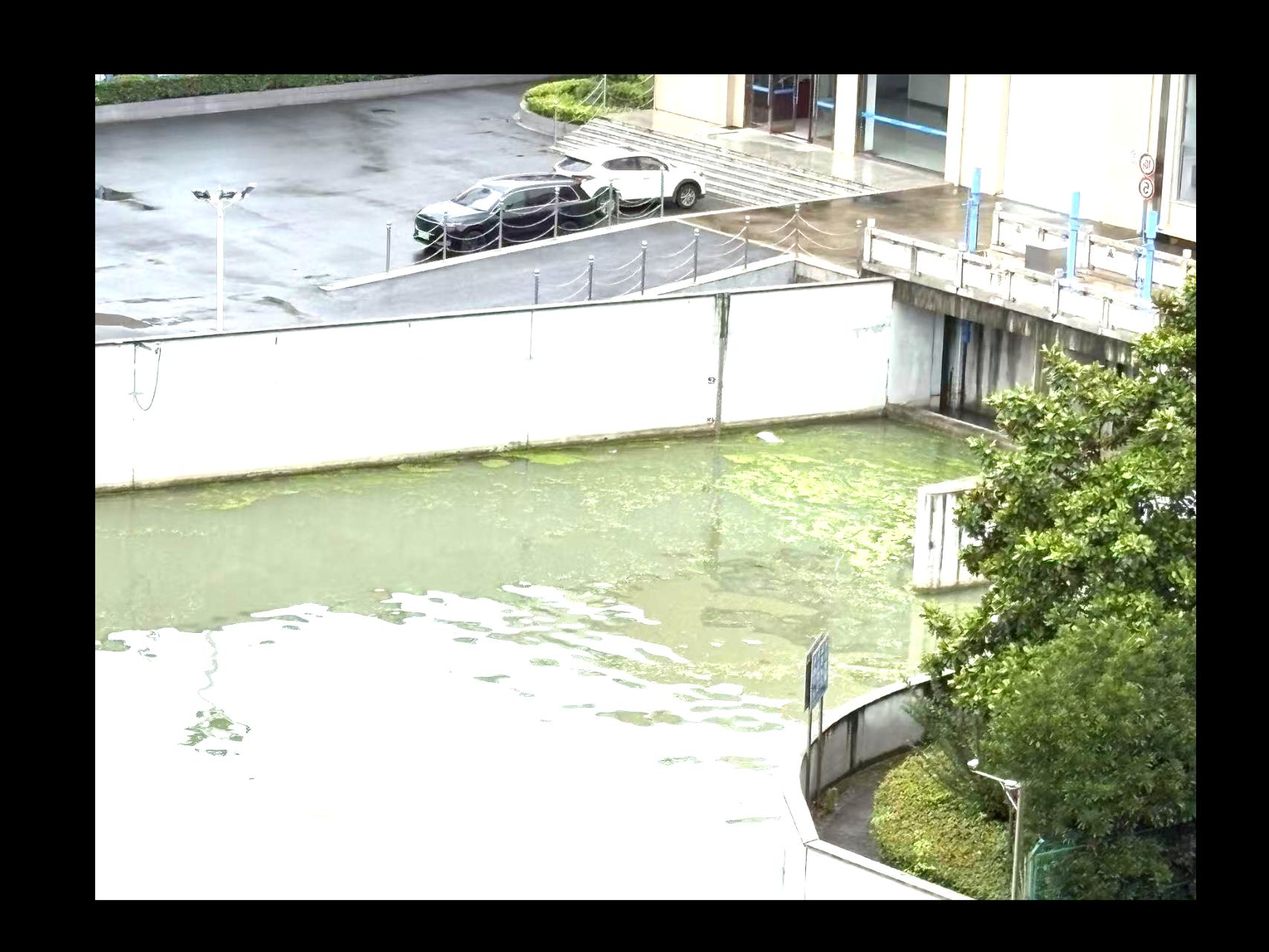Other: (836, 472, 914, 553), (731, 453, 834, 495), (201, 483, 256, 509), (524, 449, 577, 463), (481, 454, 513, 469)
Plastic wastes: (756, 431, 781, 443), (611, 449, 618, 453), (664, 445, 668, 448)
